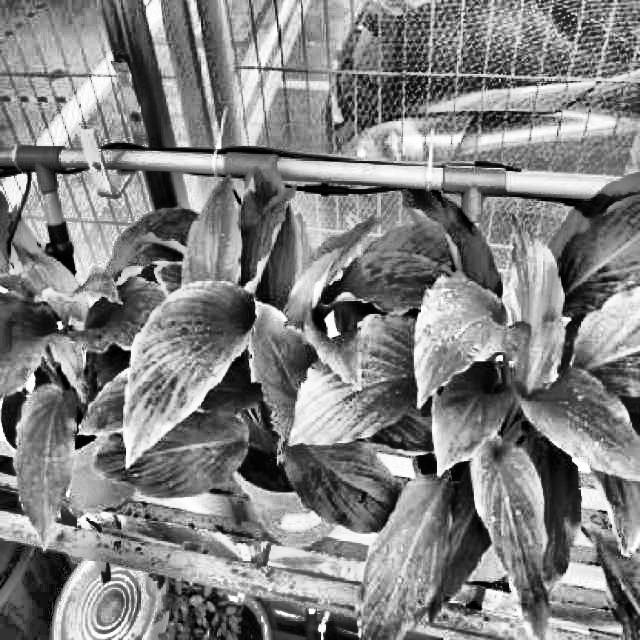plants: (290, 167, 638, 638), (72, 151, 402, 537)
